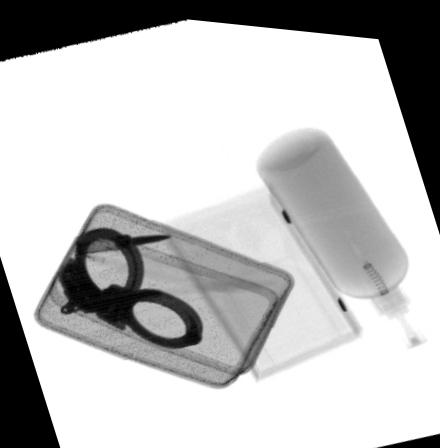Bullet: (71, 232, 173, 253)
HandCuffs: (56, 222, 204, 347)
